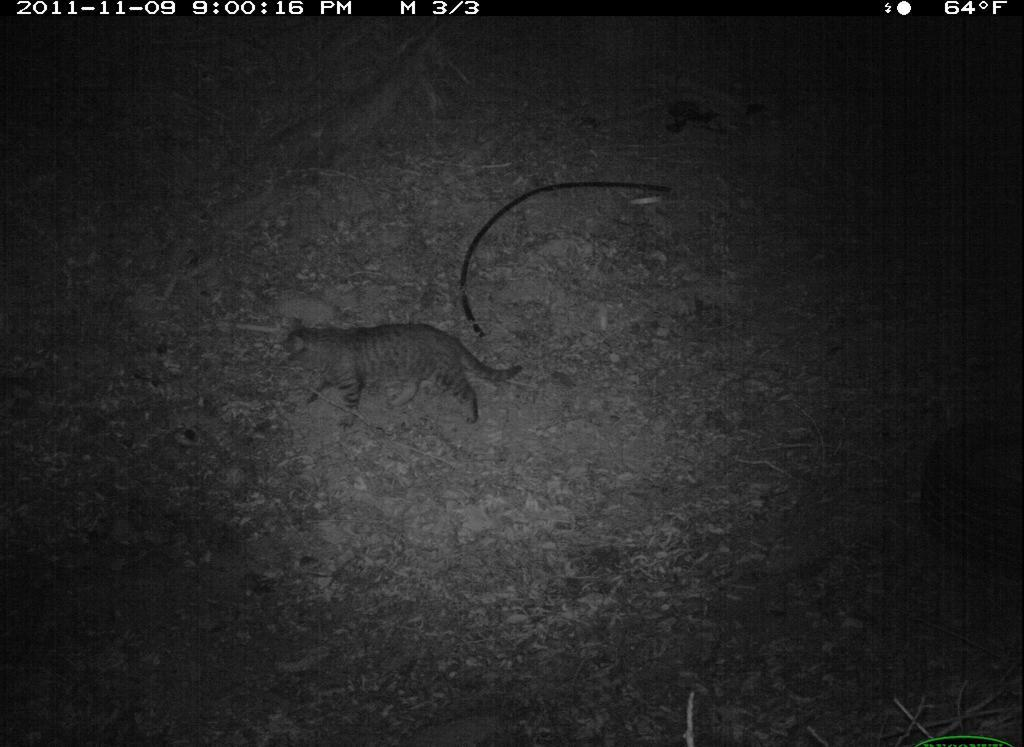cat: (276, 318, 528, 443)
